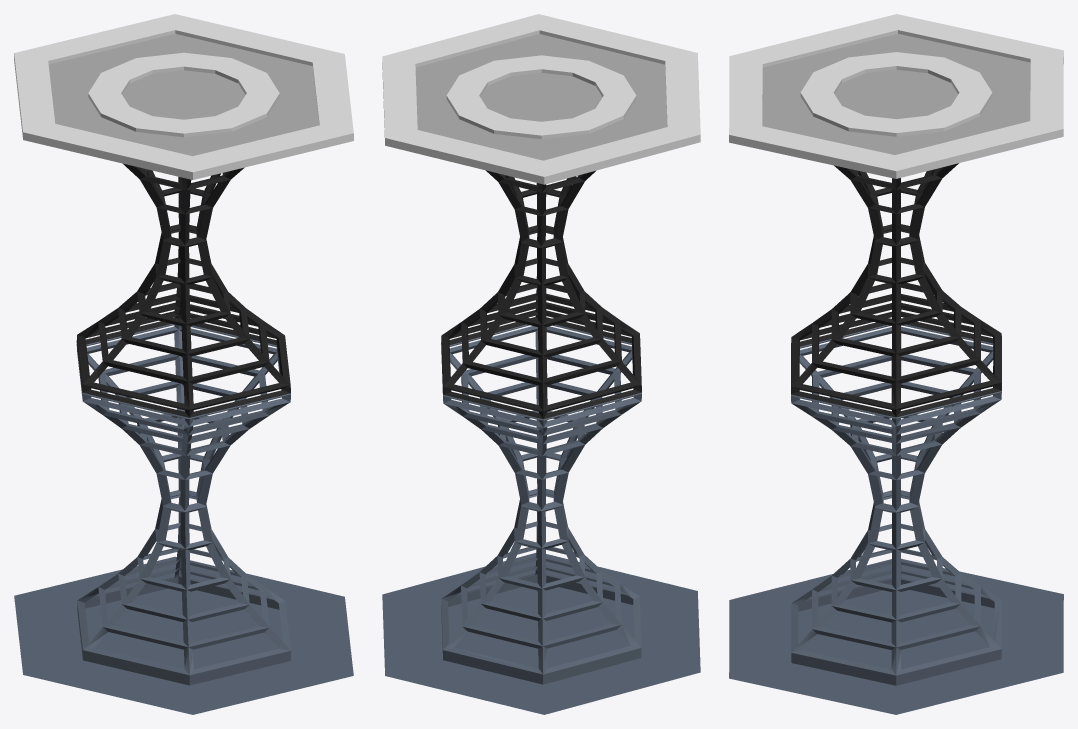
Rendered from table.glb.
3 renders of one model, left to right at view 1: azimuth 30°, elevation 25°; view 2: azimuth 150°, elevation 25°; view 3: azimuth 270°, elevation 25°, orthographic.
Visible parts, largest first — view 1: table_new, table_new.002; view 2: table_new, table_new.002; view 3: table_new, table_new.002.
Part boxes in pixels (x1,y1,x2,y2): table_new: [14, 14, 353, 417]; table_new.002: [14, 324, 353, 714]; table_new: [382, 14, 700, 419]; table_new.002: [382, 324, 700, 714]; table_new: [729, 14, 1063, 417]; table_new.002: [729, 324, 1063, 714].
Size of what is drawn, in the model's own units: 1.53 by 2.48 by 1.38.
